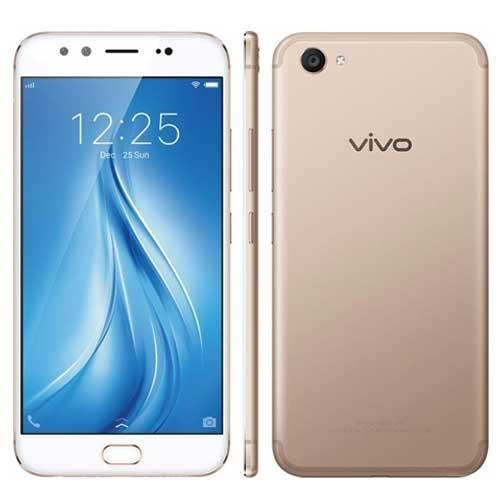mobile: (272, 28, 494, 475)
